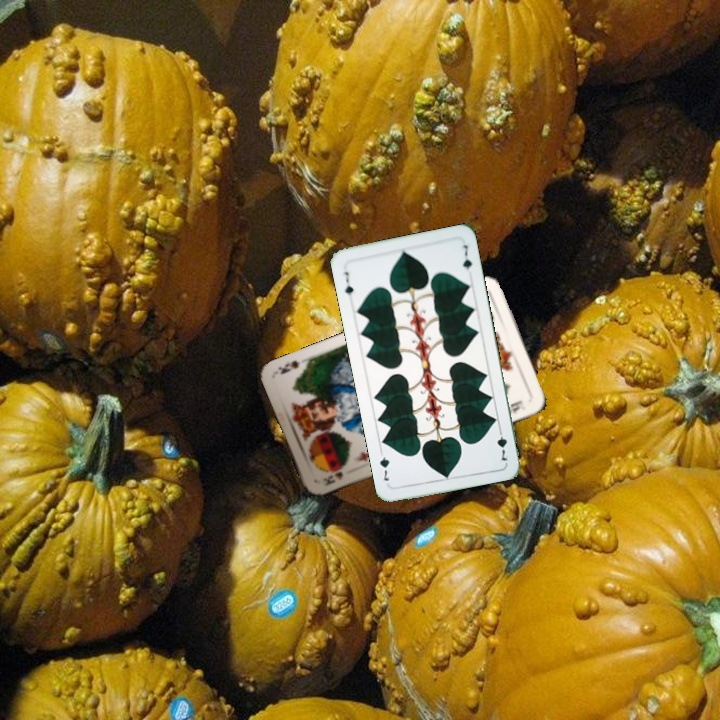G7: (493, 424, 510, 463), (340, 267, 356, 298)
SK: (319, 467, 345, 488)
